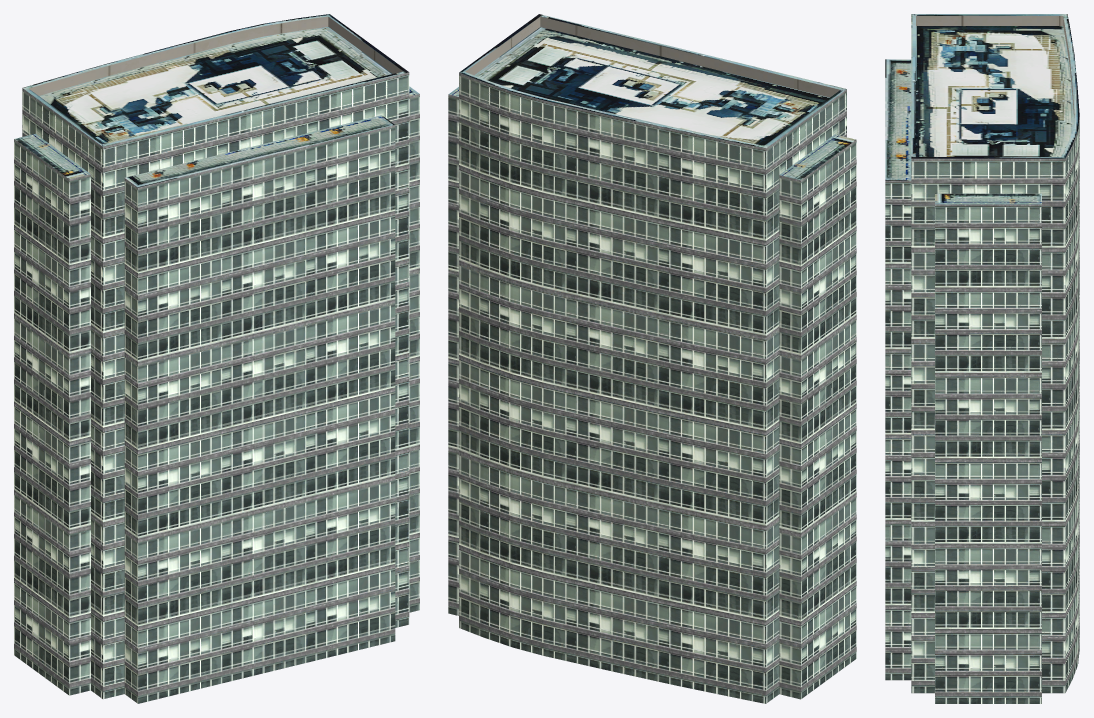
File: Highrise3.gltf
The picture shows the model from 3 angles, left to right: view 1: azimuth 30°, elevation 25°; view 2: azimuth 150°, elevation 25°; view 3: azimuth 270°, elevation 25°; orthographic projection. The views are drawn at different scales.
Visible parts, largest first — view 1: Highrise3; view 2: Highrise3; view 3: Highrise3.
Boxes of the visible parts, box(x1,y1,x2,y2) form: Highrise3: box(14, 14, 419, 703); Highrise3: box(448, 14, 856, 703); Highrise3: box(885, 14, 1079, 703).
Size of the model in its own units: 71.05 by 107 by 35.26.
1 material, 1 textured.
